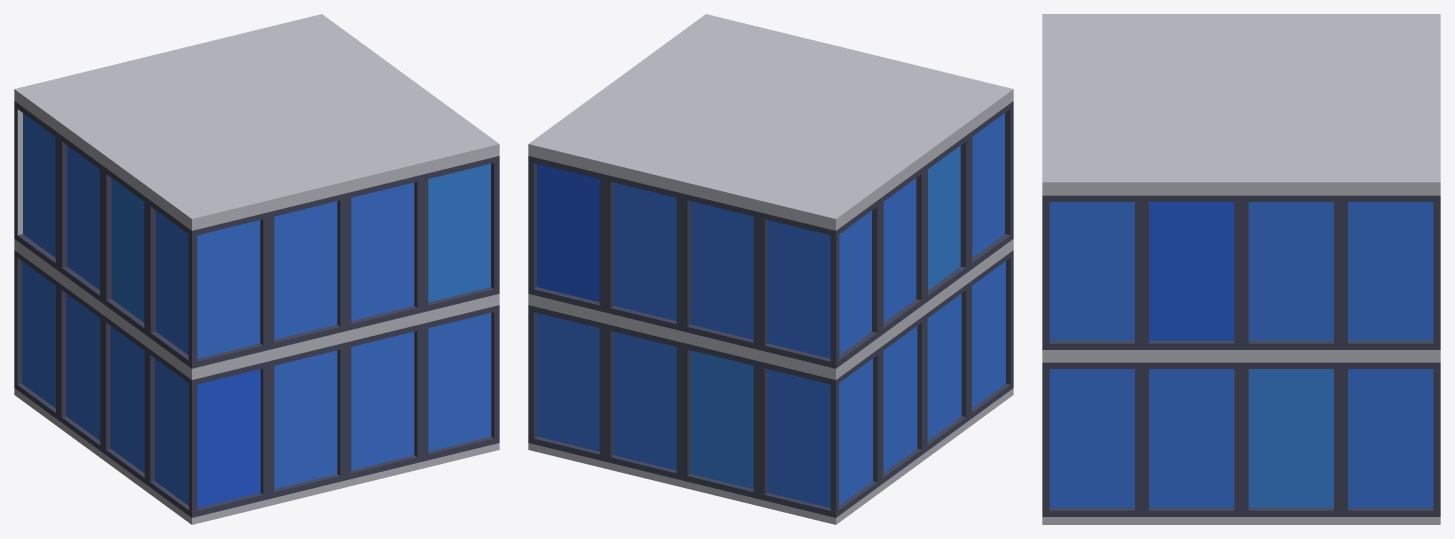
File: building_1x1_6_f.glb
3 views of the same model, side by side, from view 1: azimuth 30°, elevation 25°; view 2: azimuth 150°, elevation 25°; view 3: azimuth 270°, elevation 25° (orthographic). The views are drawn at different scales.
Visible parts, largest first — view 1: SecondFloor; view 2: SecondFloor; view 3: SecondFloor.
Boxes of the visible parts, x1,y1,x2,y2 form: SecondFloor: (14,14,499,524); SecondFloor: (528,14,1013,524); SecondFloor: (1042,14,1440,524).
Bounding box in the file's own units: 1.7 × 1.62 × 1.7.
